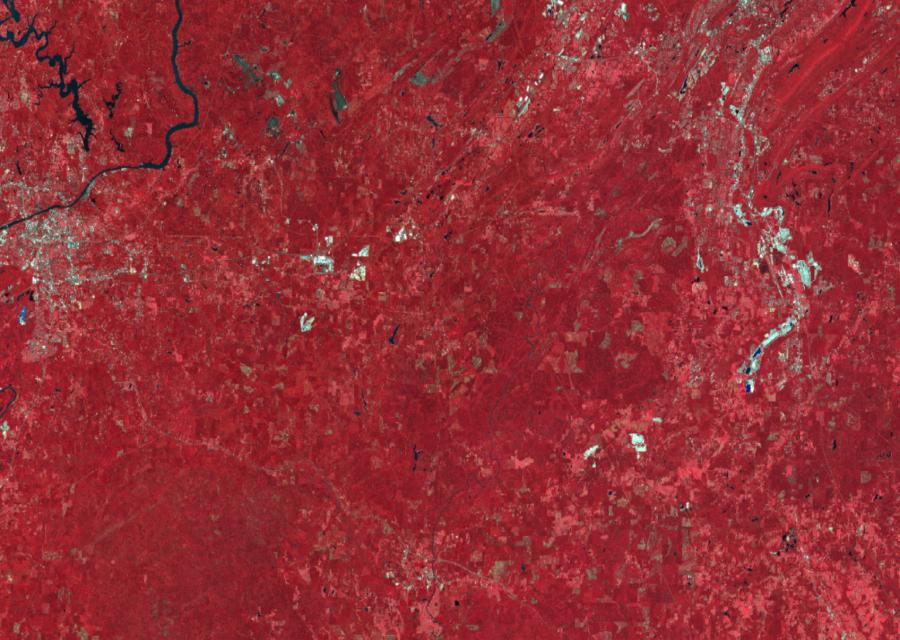Potential Lime Manufacturing Facility: (746, 316, 799, 394), (774, 225, 814, 288)
